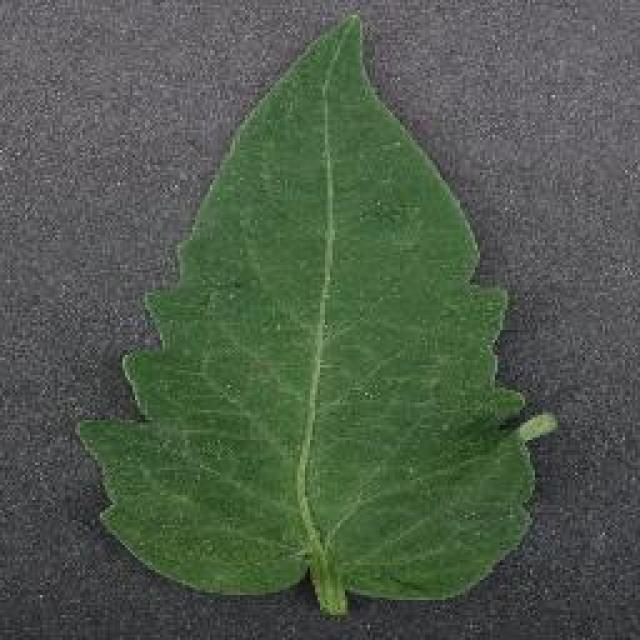Tomato_Healthy: (86, 18, 557, 597)
